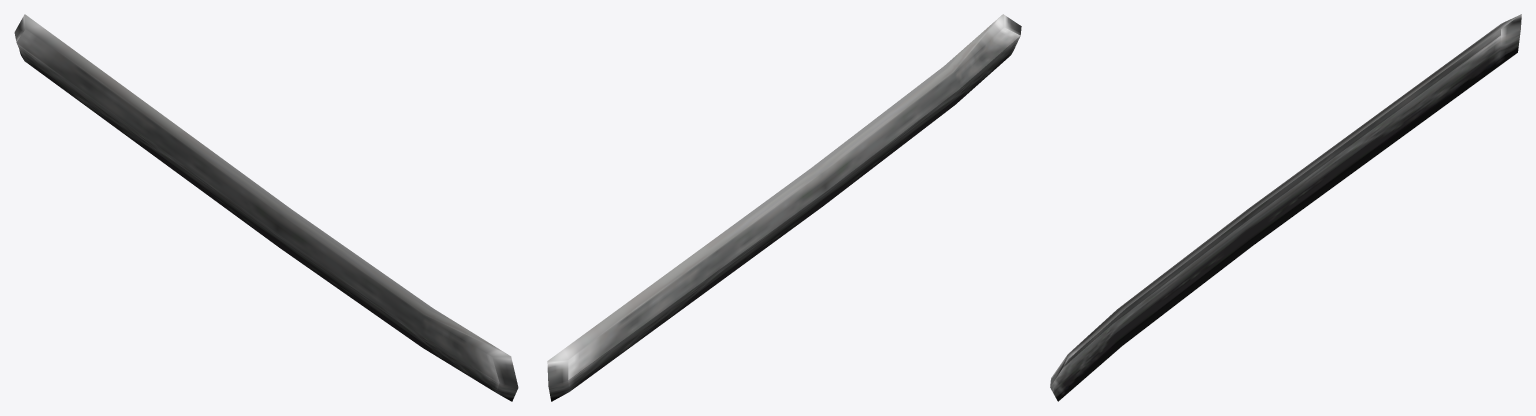
3 renders of one model, left to right at view 1: azimuth 30°, elevation 25°; view 2: azimuth 150°, elevation 25°; view 3: azimuth 330°, elevation 25°, orthographic.
Parts seen in each view (by area): view 1: wg_l_lr_bl1; view 2: wg_l_lr_bl1; view 3: wg_l_lr_bl1.
Boxes of the visible parts, x1,y1,x2,y2 form: wg_l_lr_bl1: (14, 14, 518, 401); wg_l_lr_bl1: (547, 14, 1021, 401); wg_l_lr_bl1: (1050, 14, 1521, 401).
Bounding box in the file's own units: 0.0726 × 0.0974 × 2.15.
Materials: 1 (1 with a texture image).
